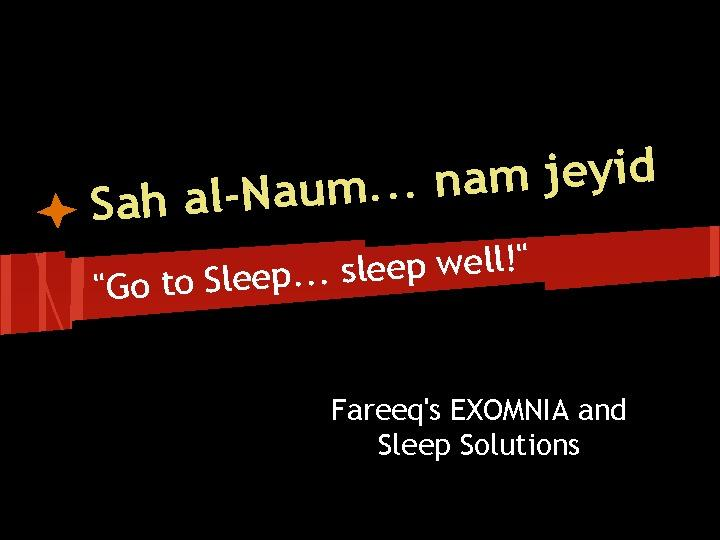subtitle: (327, 382, 638, 488)
title: (50, 120, 705, 331)
